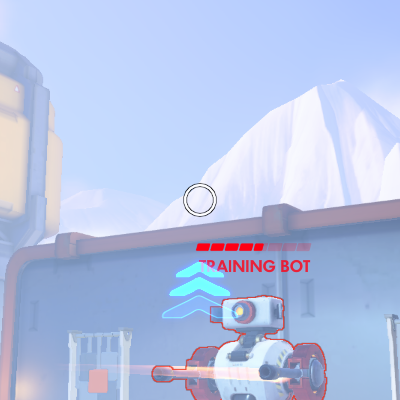hpbar: (196, 243, 312, 251)
